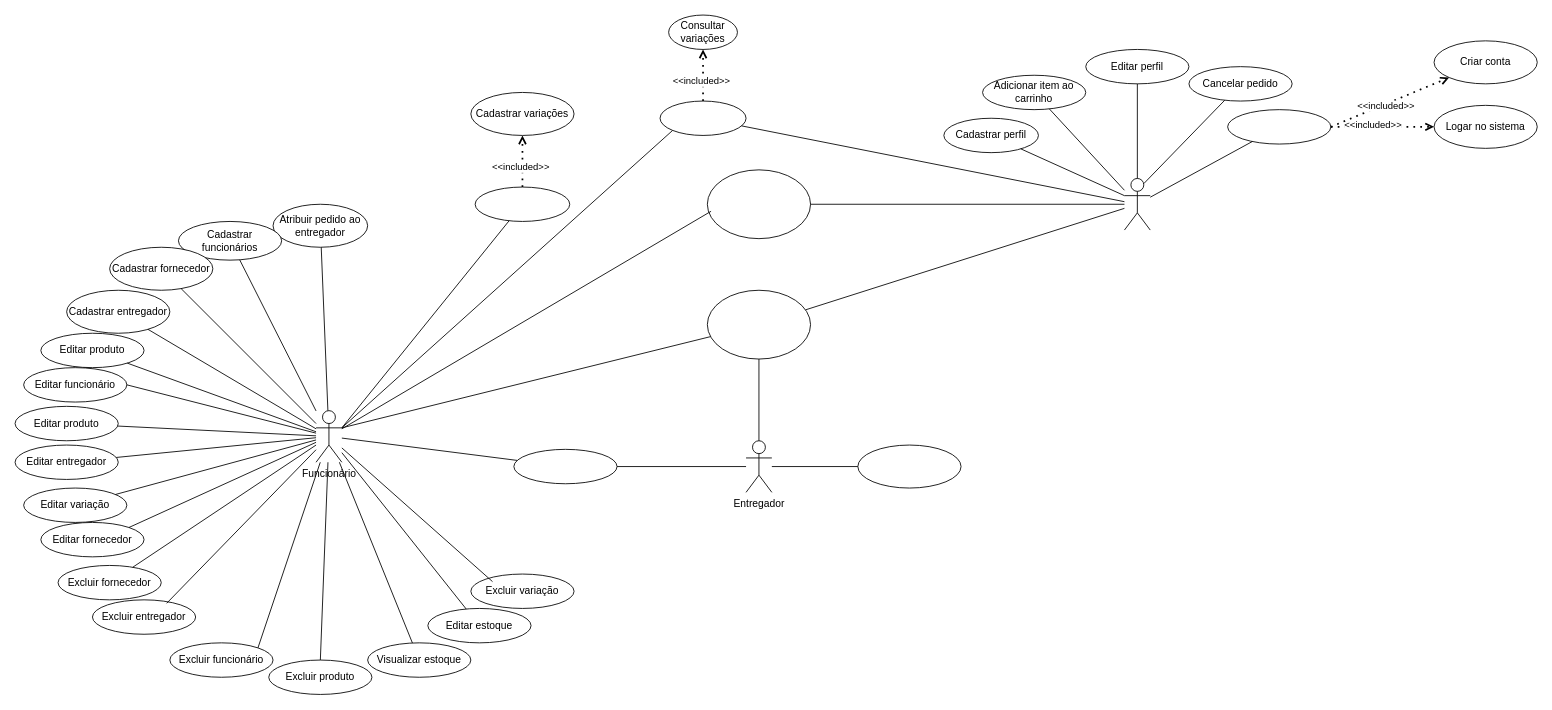
The diagram is 1552 pixels wide and 710 high, and some of its shapes have lost their labels. The shapes that lost their labels are listed below. From the top down, each one's centre as x and y in pixels, then its label:
the point at 702,117: Consultar Produtos
the point at 1279,126: Finalizar pedido
the point at 522,203: Cadastrar produto
the point at 758,204: Acompanhar entrega
the point at 1137,204: Cliente
the point at 758,324: Consultar Pedidos
the point at 565,466: Mudar status do pedido
the point at 909,466: Visualizar rotas de entrega
